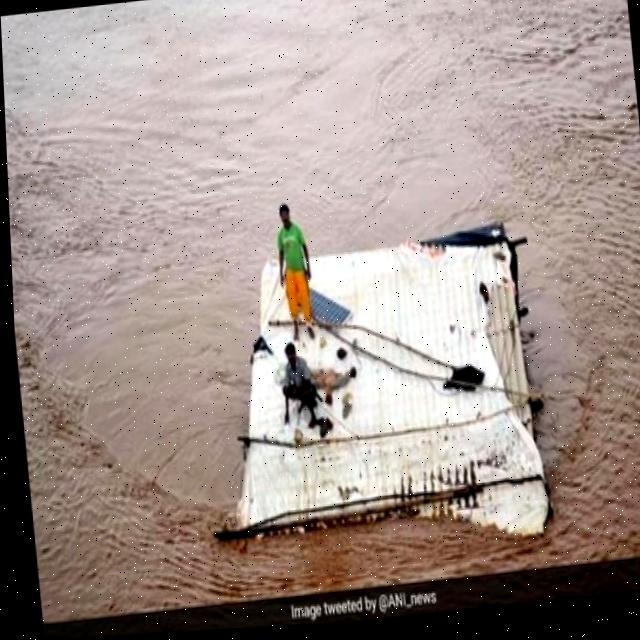civilian: (272, 196, 323, 326), (281, 337, 326, 424)
